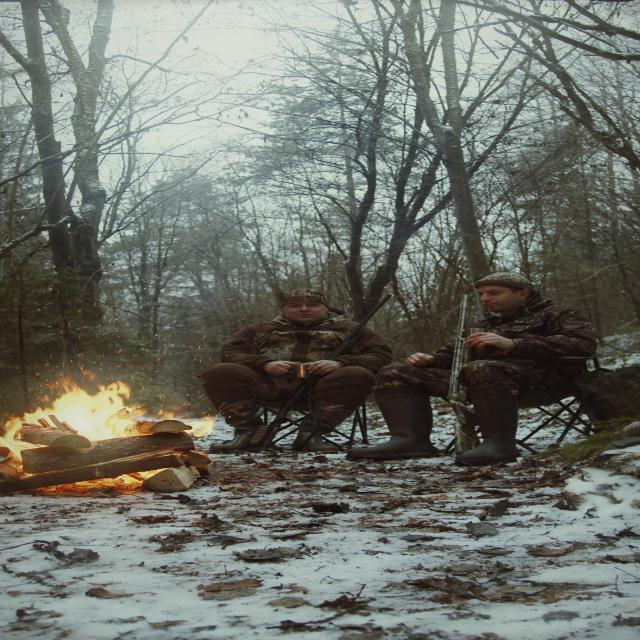Fire: (0, 360, 224, 482)
